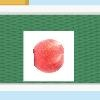raw: (30, 37, 69, 74)
